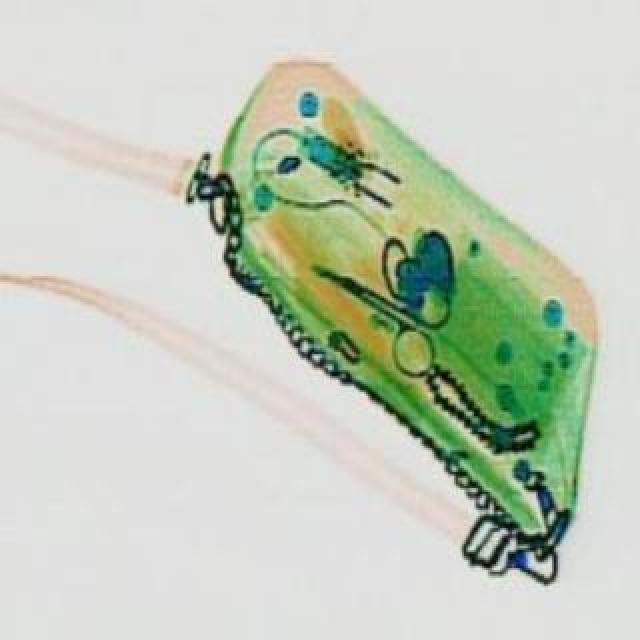pliers: (282, 232, 474, 390)
